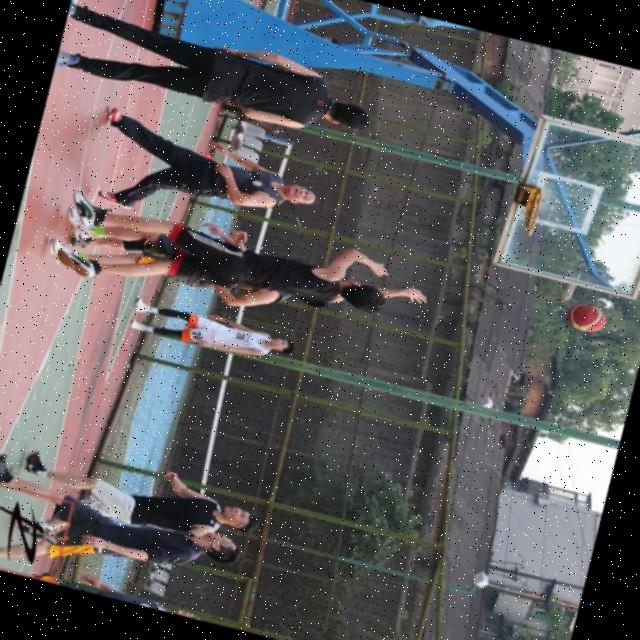ball: (562, 300, 608, 336)
hoop: (520, 186, 546, 240)
